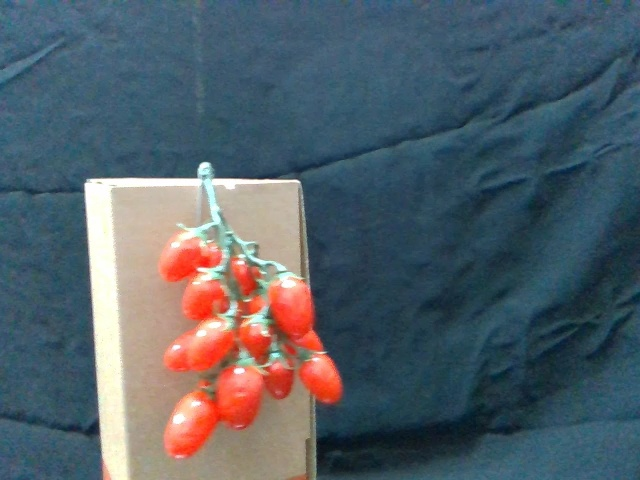tomato: (164, 384, 221, 458), (219, 359, 266, 430), (270, 269, 315, 337), (190, 311, 238, 371), (181, 269, 232, 322), (160, 226, 202, 283), (301, 350, 342, 404), (263, 345, 294, 402), (244, 310, 275, 359)
